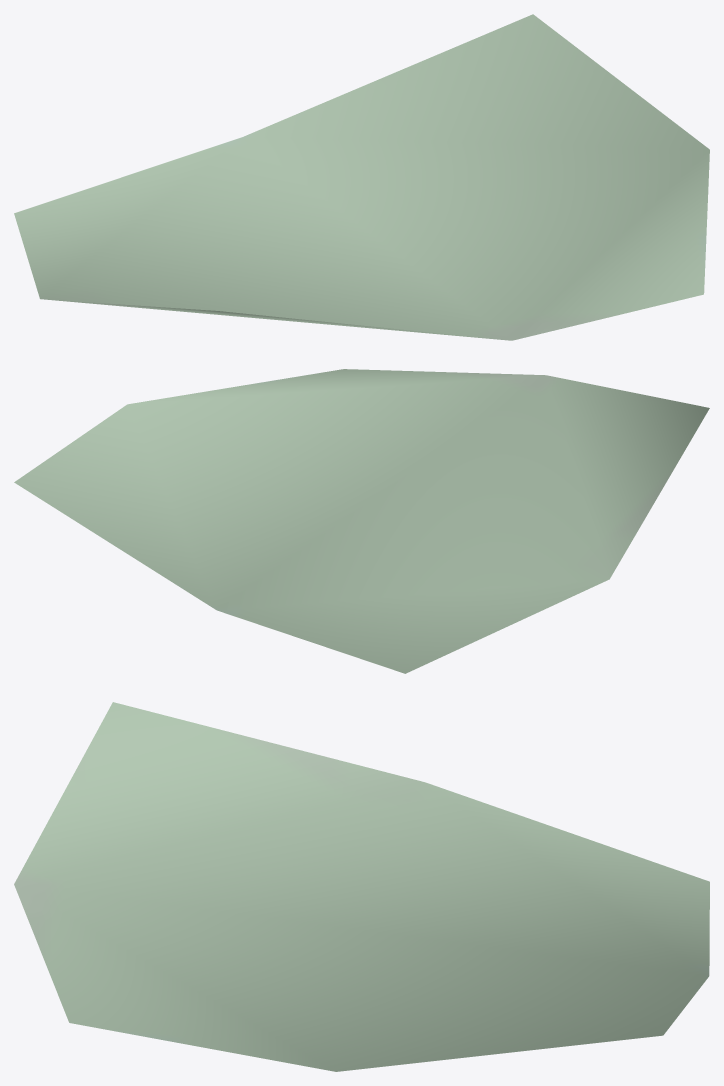
Rendered from TROLLHOLE02_HOLECAP165.fbx.
3 views of the same model, one above another, from view 1: azimuth 30°, elevation 25°; view 2: azimuth 150°, elevation 25°; view 3: azimuth 270°, elevation 25° (orthographic). The views are drawn at different scales.
Parts seen in each view (by area): view 1: TROLLHOLE02_HOLECAP165; view 2: TROLLHOLE02_HOLECAP165; view 3: TROLLHOLE02_HOLECAP165.
Boxes of the visible parts, x1,y1,x2,y2 form: TROLLHOLE02_HOLECAP165: (14, 14, 709, 340); TROLLHOLE02_HOLECAP165: (14, 369, 709, 673); TROLLHOLE02_HOLECAP165: (14, 702, 709, 1071).
Size of the model in its own units: 36642 by 7392 by 33828.
Materials: 1 (1 with a texture image).
